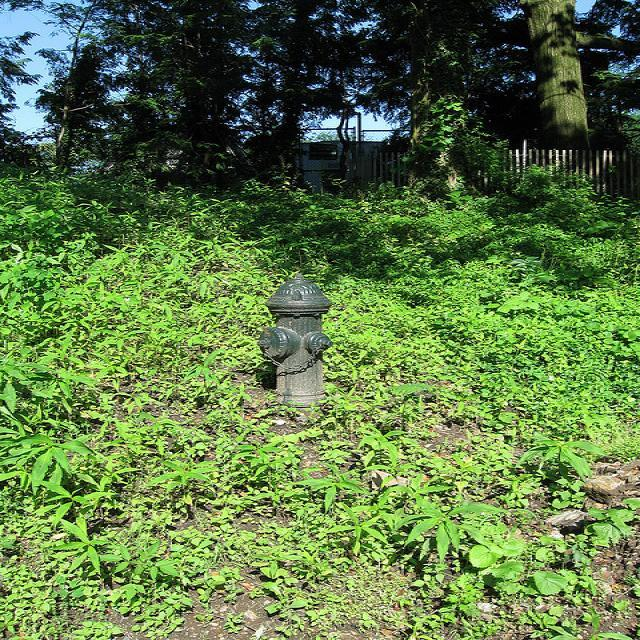fire_hydrant: (257, 272, 335, 406)
